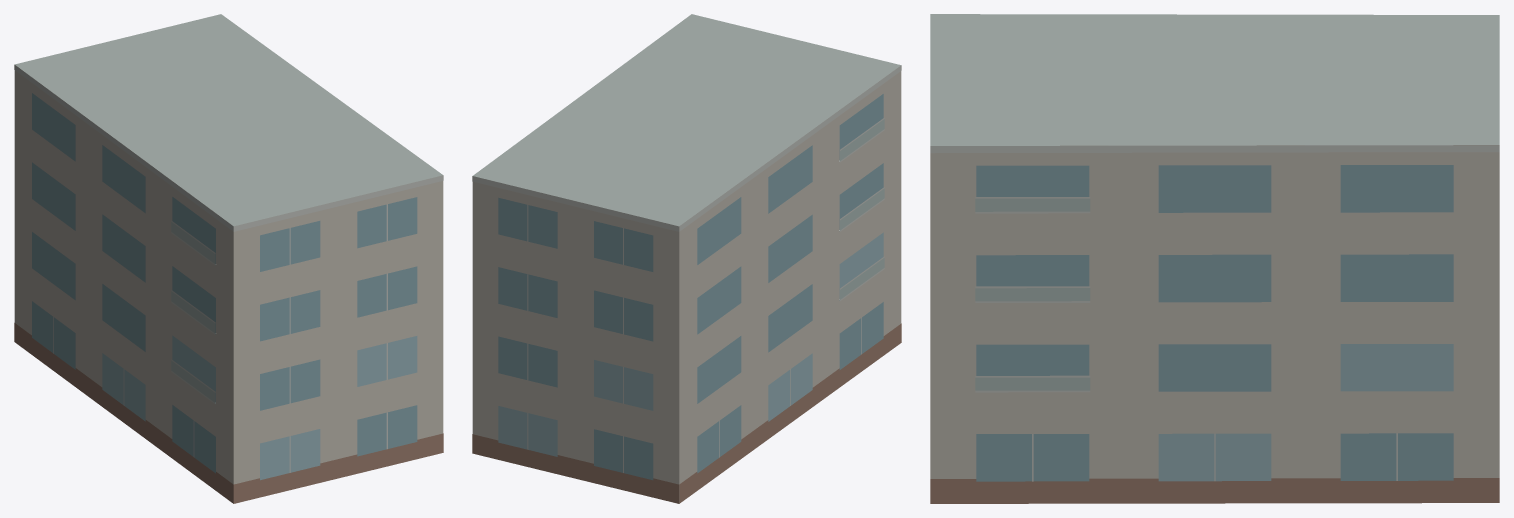
File: residential-54b3a5e8-c457-4267-a53a-86f74fbb0726.glb
The picture shows the model from 3 angles, left to right: view 1: azimuth 30°, elevation 25°; view 2: azimuth 150°, elevation 25°; view 3: azimuth 270°, elevation 25°; orthographic projection. The views are drawn at different scales.
Visible parts, largest first — view 1: residential-54b3a5e8-c457-4267-a53a-86f74fbb0726.tmp; view 2: residential-54b3a5e8-c457-4267-a53a-86f74fbb0726.tmp; view 3: residential-54b3a5e8-c457-4267-a53a-86f74fbb0726.tmp.
Boxes of the visible parts, x1,y1,x2,y2 form: residential-54b3a5e8-c457-4267-a53a-86f74fbb0726.tmp: [14, 14, 443, 503]; residential-54b3a5e8-c457-4267-a53a-86f74fbb0726.tmp: [472, 14, 901, 503]; residential-54b3a5e8-c457-4267-a53a-86f74fbb0726.tmp: [930, 14, 1499, 503].
Size of the model in its own units: 9.72 by 12.2 by 17.61.
